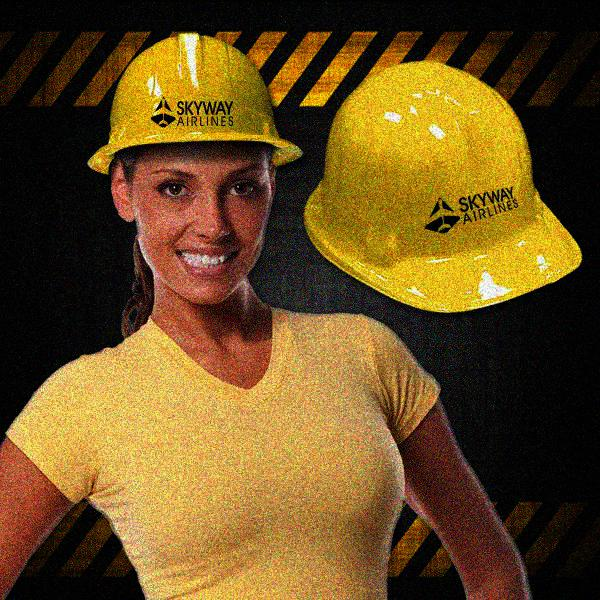helmet: (83, 27, 309, 306)
